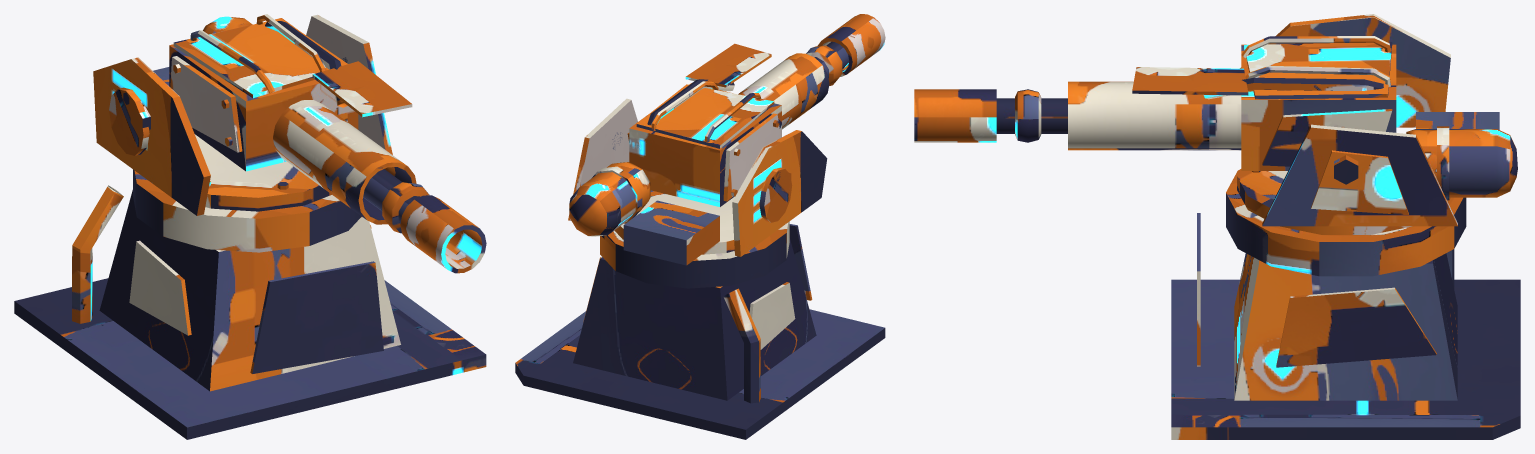
Rendered from R4W_Basic_LOD1.fbx.
The picture shows the model from 3 angles, left to right: view 1: azimuth 30°, elevation 25°; view 2: azimuth 150°, elevation 25°; view 3: azimuth 270°, elevation 25°; orthographic projection. The views are drawn at different scales.
Visible parts, largest first — view 1: R4W_Basic_LOD1; view 2: R4W_Basic_LOD1; view 3: R4W_Basic_LOD1.
Boxes of the visible parts, x1=… form: R4W_Basic_LOD1: x1=14, y1=14, x2=486, y2=439; R4W_Basic_LOD1: x1=515, y1=14, x2=885, y2=439; R4W_Basic_LOD1: x1=914, y1=14, x2=1520, y2=439.
Size of the model in its own units: 0.5 by 0.4948 by 0.868.
